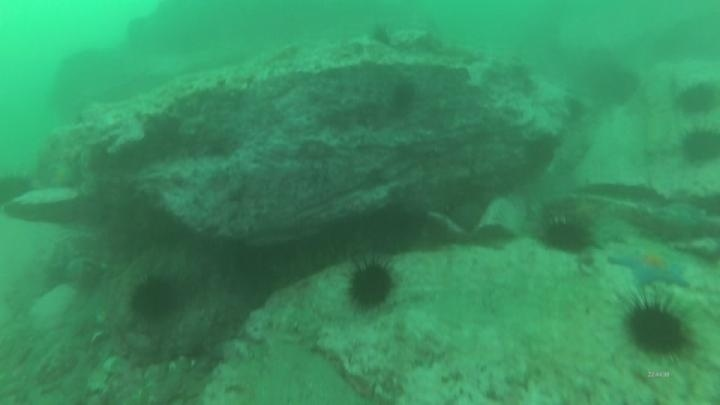echinus: (620, 296, 694, 362), (360, 203, 425, 257), (344, 257, 398, 313), (128, 273, 182, 323), (538, 215, 595, 257), (678, 125, 720, 168), (674, 79, 719, 119), (521, 132, 562, 171), (1, 170, 35, 208), (388, 79, 420, 114), (367, 23, 395, 49)
starfish: (607, 243, 693, 291)
